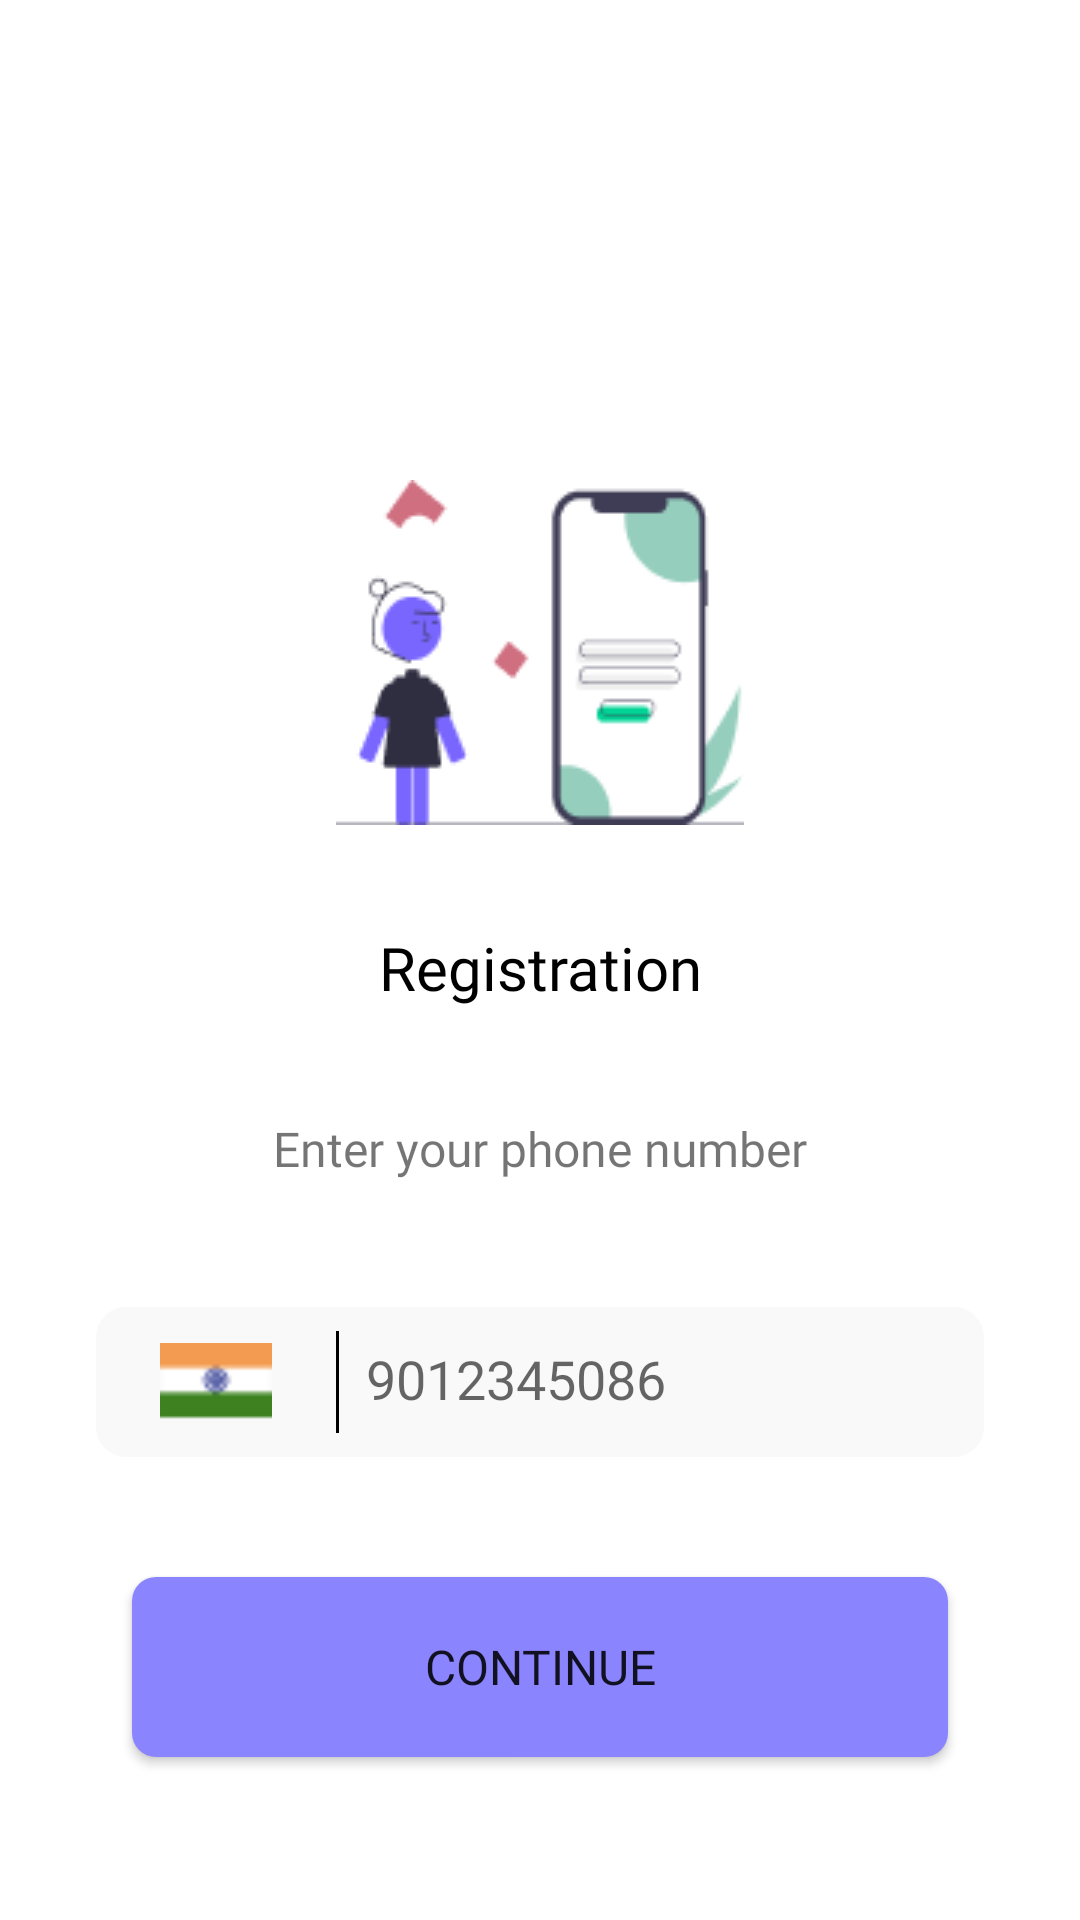

Icons on this 1080w x 1920h Android screen, each with the point to tap as (x,y):
india flag: (216,1381)
